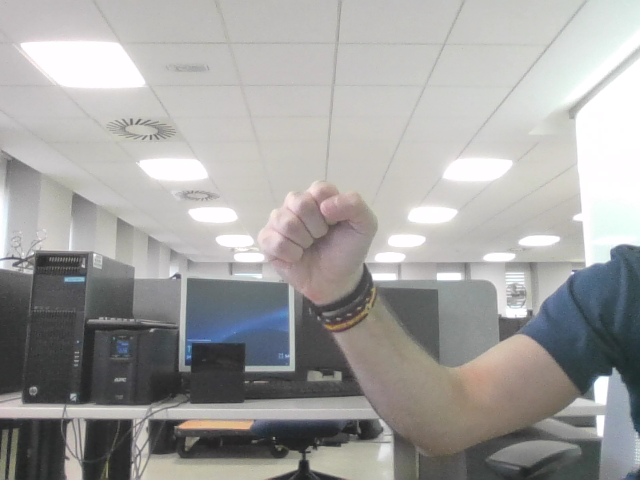Puño: (270, 192, 360, 259)
